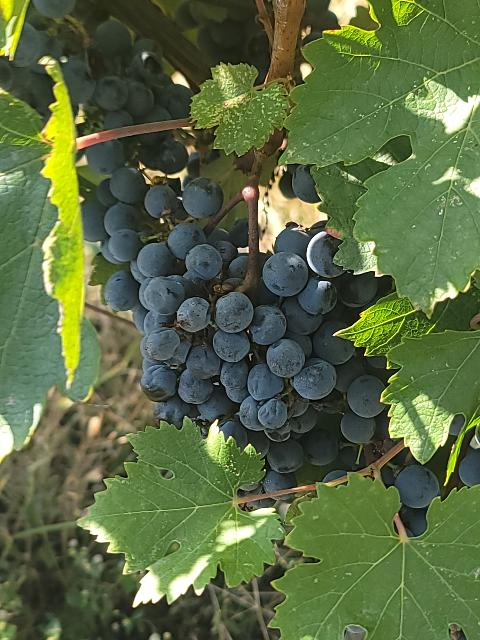grapes: (109, 222, 394, 490)
